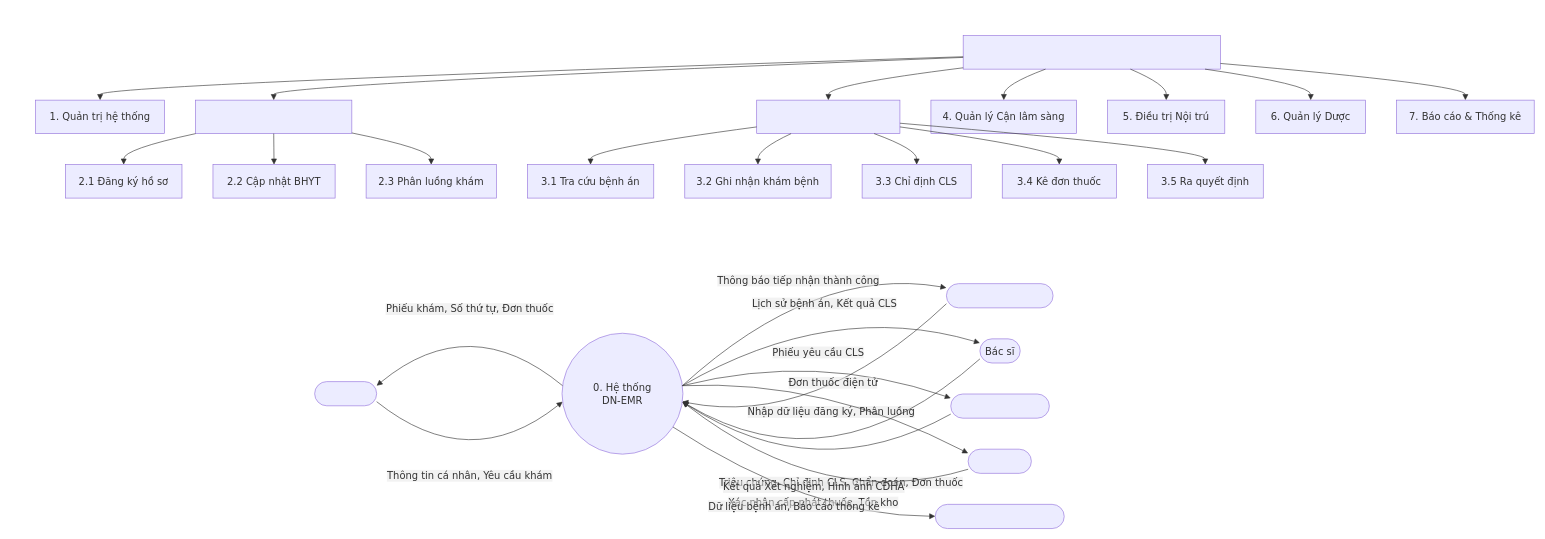
Image size: 1545x539. Some labels were removed from this diagram. The centre of each missing label's shape, as x and y in pixels:
"2. Tiếp nhận & Hành chính" goes at point (273, 117).
"3. Khám bệnh Ngoại trú" goes at point (828, 117).
"Bệnh nhân" goes at point (345, 393).
"Bộ Y tế / Cổng liên thông" goes at point (999, 516).
"Hệ thống Quản lý Hồ sơ Bệnh án Điện tử DN-EMR" goes at point (1091, 52).
"Khoa Cận lâm sàng" goes at point (999, 405).
"Khoa Dược" goes at point (999, 461).
"Nhân viên Tiếp nhận" goes at point (999, 295).
